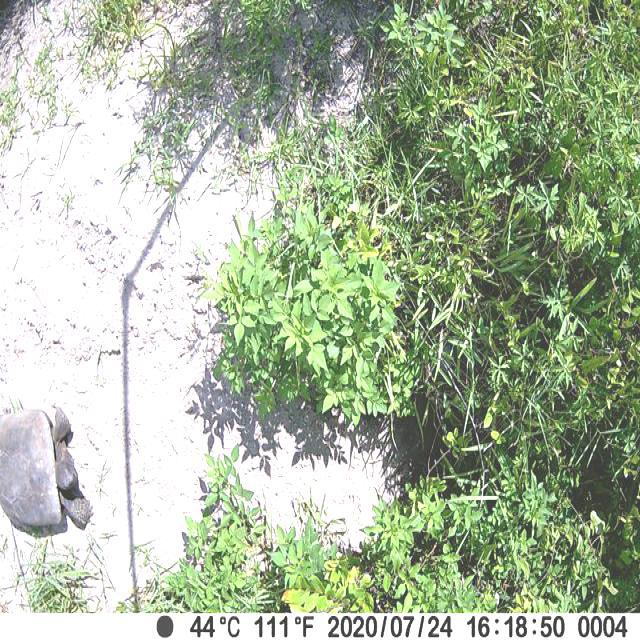tortoise: (0, 406, 92, 530)
